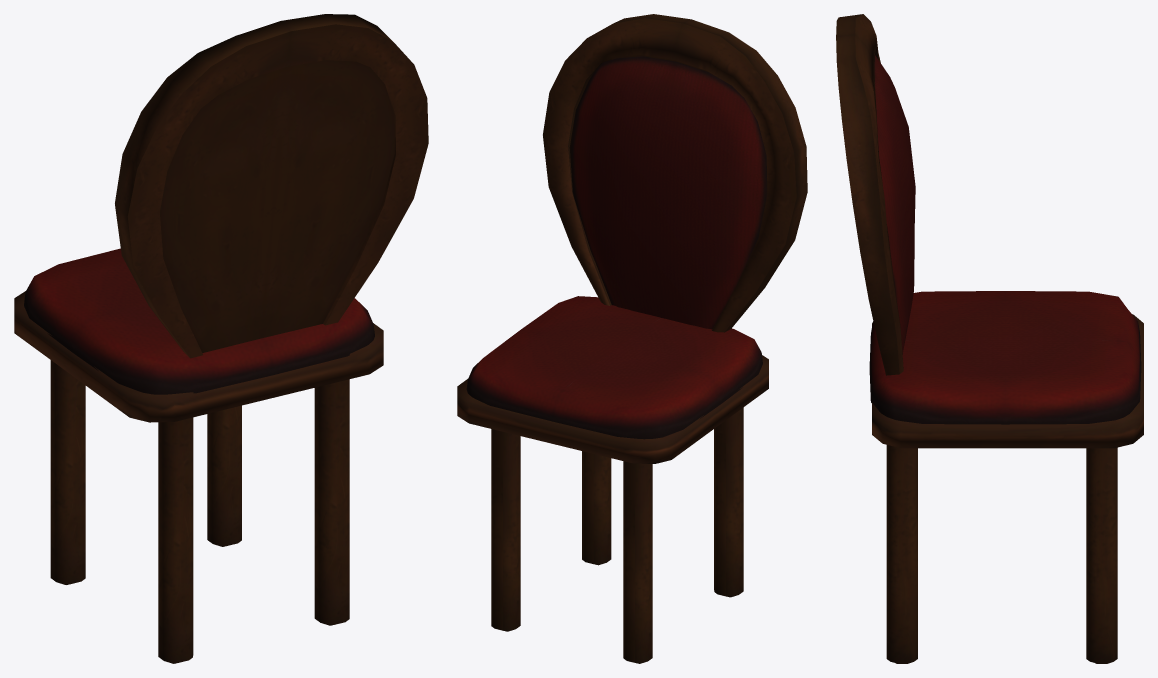
Rendered from Chair_M.fbx.
3 renders of one model, left to right at view 1: azimuth 30°, elevation 25°; view 2: azimuth 150°, elevation 25°; view 3: azimuth 270°, elevation 25°, orthographic. The views are drawn at different scales.
Visible parts, largest first — view 1: Chair_Backing_A, Chair_Legs_B, Chair_Cushion_Base_A, Chair_Base_A; view 2: Chair_Backing_A, Chair_Cushion_Base_A, Chair_Legs_B, Chair_Base_A; view 3: Chair_Cushion_Base_A, Chair_Backing_A, Chair_Legs_B, Chair_Base_A.
Part boxes in pixels (x1,y1,x2,y2): Chair_Backing_A: (115,14,428,358); Chair_Legs_B: (50,360,349,663); Chair_Cushion_Base_A: (24,248,374,394); Chair_Base_A: (14,291,383,422); Chair_Backing_A: (543,14,807,332); Chair_Cushion_Base_A: (466,296,762,439); Chair_Legs_B: (491,407,743,663); Chair_Base_A: (457,355,768,463); Chair_Cushion_Base_A: (869,291,1141,424); Chair_Backing_A: (836,14,915,375); Chair_Legs_B: (886,445,1117,663); Chair_Base_A: (872,314,1143,448).
Size of the model in its own units: 5.84 by 11.84 by 5.58.
